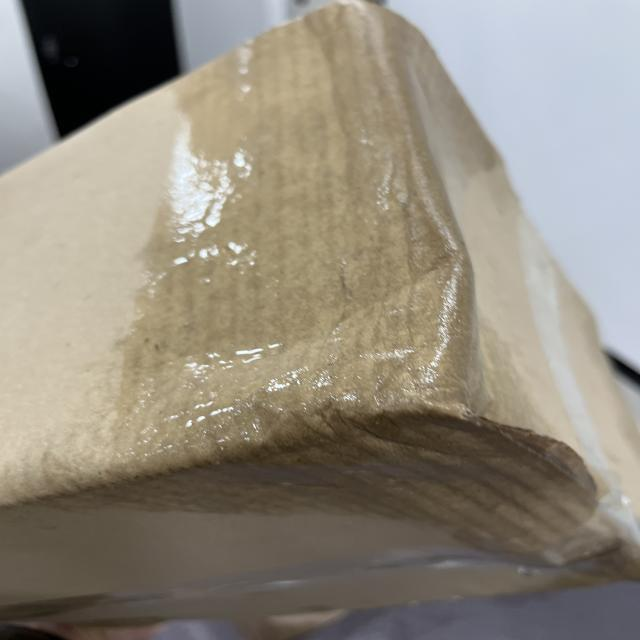wet: (123, 4, 598, 558)
